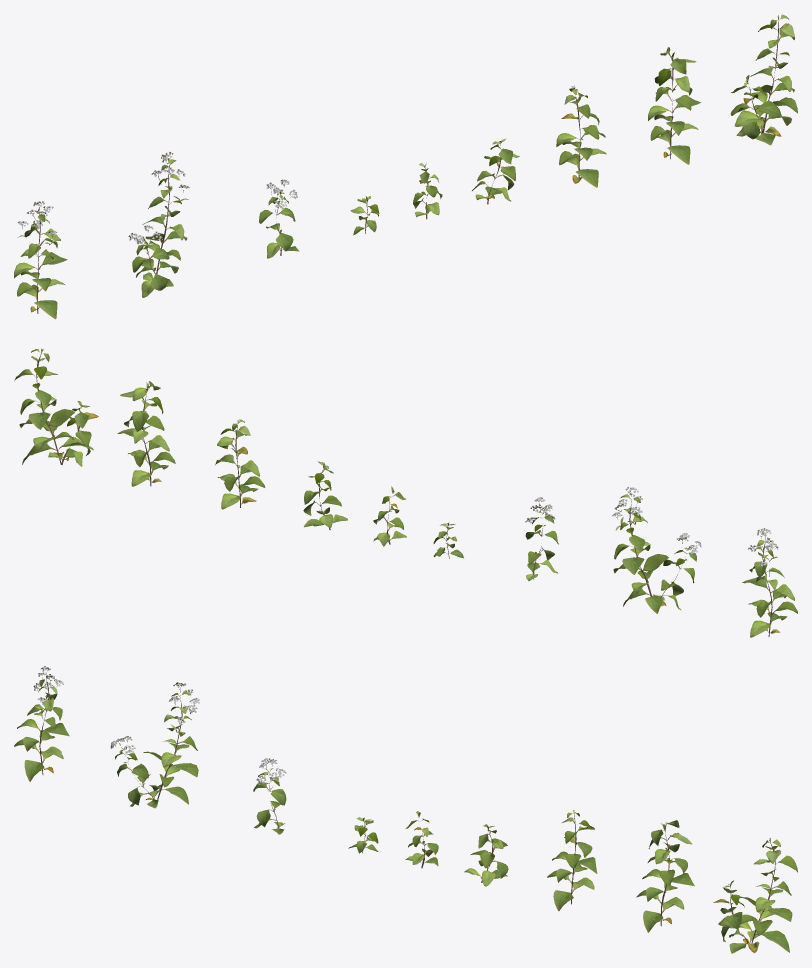
Rendered from shrub_01.glb.
3 renders of one model, top to bottom at view 1: azimuth 30°, elevation 25°; view 2: azimuth 150°, elevation 25°; view 3: azimuth 330°, elevation 25°, orthographic. The views are drawn at different scales.
Visible parts, largest first — view 1: shrub_01_a; view 2: shrub_01_a; view 3: shrub_01_a.
Boxes of the visible parts, x1=… form: shrub_01_a: x1=14, y1=14, x2=797, y2=319; shrub_01_a: x1=14, y1=348, x2=797, y2=637; shrub_01_a: x1=14, y1=666, x2=797, y2=953.
Size of the model in its own units: 2.59 by 0.3955 by 0.2184.
Materials: 1 (1 with a texture image).
